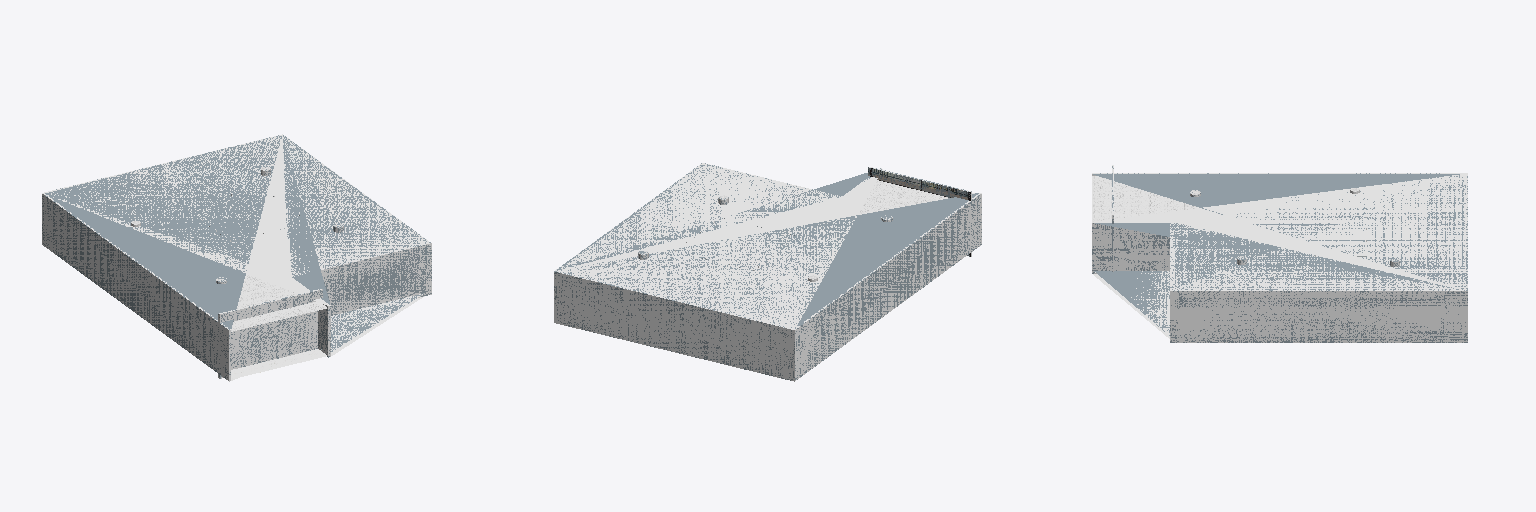
3 views of the same model, side by side, from view 1: azimuth 30°, elevation 25°; view 2: azimuth 150°, elevation 25°; view 3: azimuth 270°, elevation 25° (orthographic).
Parts seen in each view (by area): view 1: Mesh1 Group1 Model, Mesh166 Group19 Model, Mesh74 Group12 Model, Mesh77 Group13 Model; view 2: Mesh1 Group1 Model, Mesh74 Group12 Model, Mesh166 Group19 Model; view 3: Mesh1 Group1 Model, Mesh74 Group12 Model.
Part boxes in pixels (x1,y1,x2,y2): Mesh1 Group1 Model: (42,134,431,381); Mesh166 Group19 Model: (218,289,322,378); Mesh74 Group12 Model: (231,274,326,331); Mesh77 Group13 Model: (231,349,326,379); Mesh1 Group1 Model: (554,163,981,381); Mesh74 Group12 Model: (858,180,974,214); Mesh166 Group19 Model: (868,167,971,256); Mesh1 Group1 Model: (1092,173,1467,342); Mesh74 Group12 Model: (1092,176,1198,221).
Size of the model in its own units: 24.13 by 6.18 by 32.52.
28 materials, 16 textured.